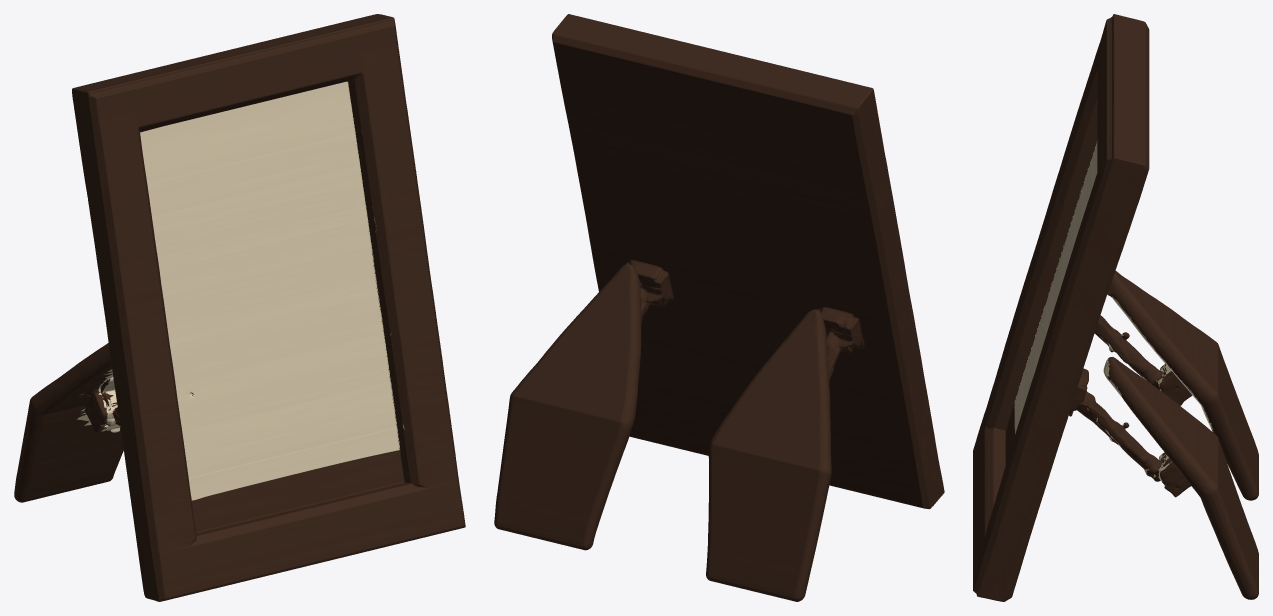
File: frame_semantic.glb
The picture shows the model from 3 angles, left to right: view 1: azimuth 30°, elevation 25°; view 2: azimuth 150°, elevation 25°; view 3: azimuth 270°, elevation 25°; orthographic projection. The views are drawn at different scales.
Parts seen in each view (by area): view 1: RoomOne_Frame; view 2: RoomOne_Frame; view 3: RoomOne_Frame.
Boxes of the visible parts, bbox=[...] form: RoomOne_Frame: bbox=[14, 14, 465, 601]; RoomOne_Frame: bbox=[494, 14, 944, 601]; RoomOne_Frame: bbox=[973, 14, 1258, 601].
Bounding box in the file's own units: 0.2017 × 0.28 × 0.1628.
